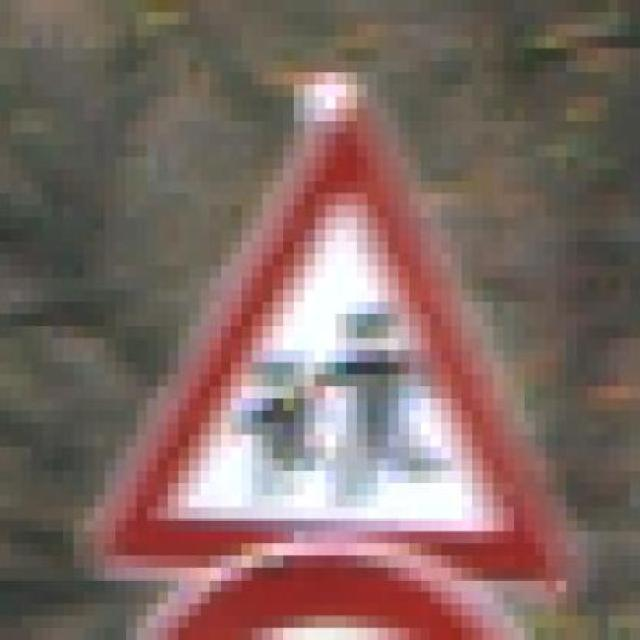Beware of children: (84, 61, 578, 604)
